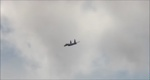maybay_muctieu: (62, 38, 80, 49)
